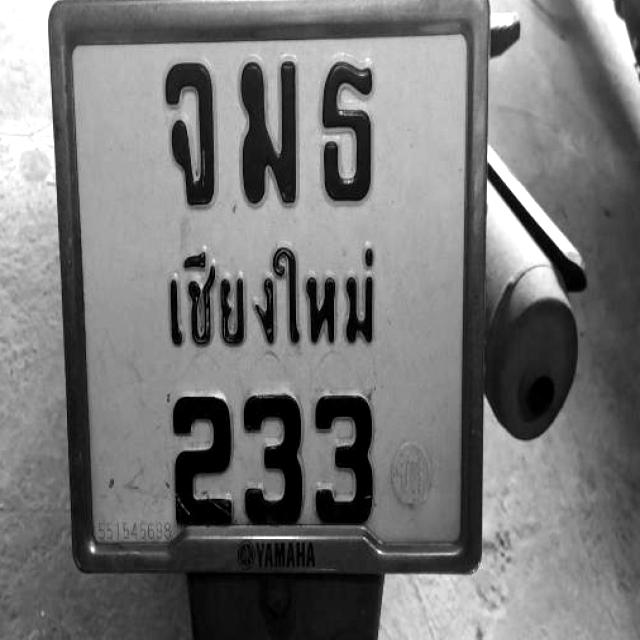letters: (142, 386, 237, 532), (150, 56, 228, 221), (237, 369, 309, 528), (313, 54, 385, 210), (231, 52, 297, 212), (312, 384, 376, 525)
license-plate: (64, 7, 479, 558)
province: (142, 245, 410, 357)
